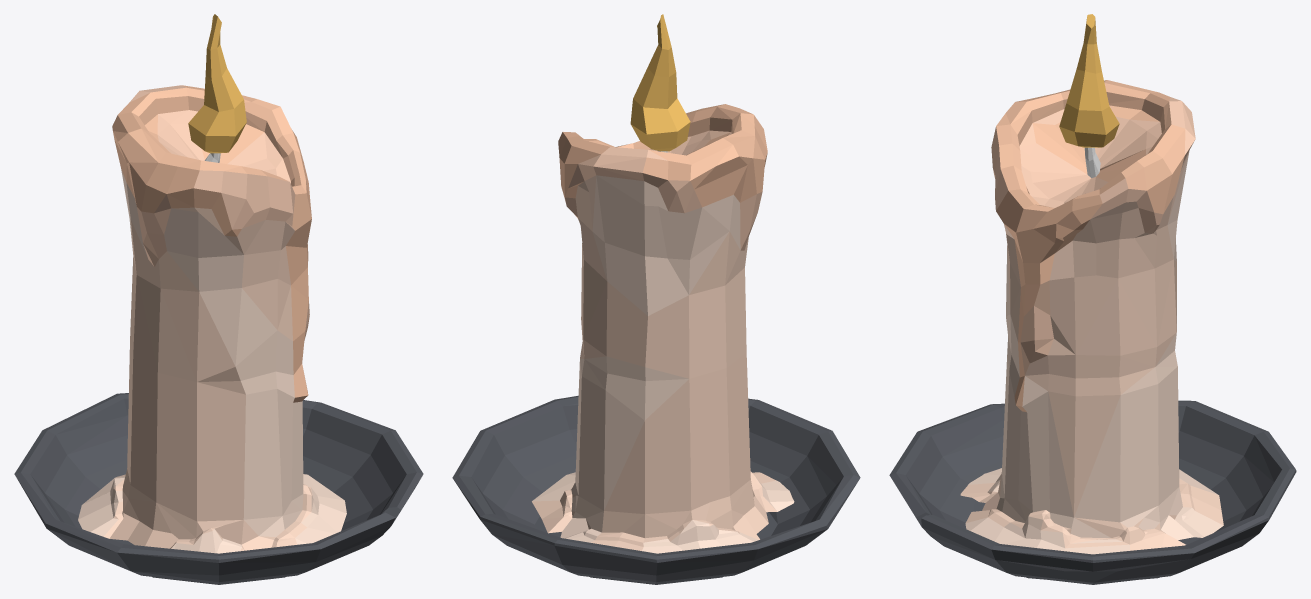
File: WF_LP_HT_Props_Candle.005.fbx
3 views of the same model, side by side, from view 1: azimuth 30°, elevation 25°; view 2: azimuth 150°, elevation 25°; view 3: azimuth 270°, elevation 25° (orthographic).
Parts seen in each view (by area): view 1: WF_LP_HT_Props_Candle.005; view 2: WF_LP_HT_Props_Candle.005; view 3: WF_LP_HT_Props_Candle.005.
Boxes of the visible parts, left/top/right/bottom form: WF_LP_HT_Props_Candle.005: left=14, top=14, right=423, bottom=584; WF_LP_HT_Props_Candle.005: left=452, top=14, right=860, bottom=584; WF_LP_HT_Props_Candle.005: left=889, top=14, right=1296, bottom=584.
Size of the model in its own units: 0.2015 by 0.2846 by 0.2043.
